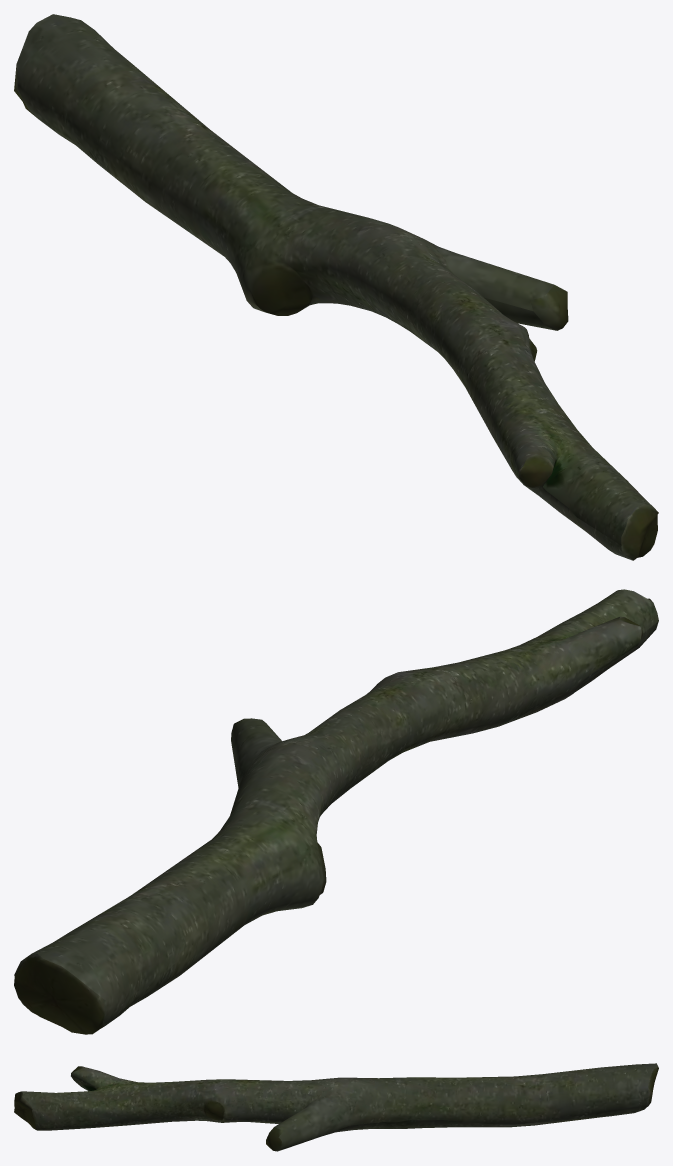
3 renders of one model, top to bottom at view 1: azimuth 30°, elevation 25°; view 2: azimuth 150°, elevation 25°; view 3: azimuth 270°, elevation 25°, orthographic. The views are drawn at different scales.
Visible parts, largest first — view 1: SM_Branches_03_LOD0; view 2: SM_Branches_03_LOD0; view 3: SM_Branches_03_LOD0.
Boxes of the visible parts, x1,y1,x2,y2 form: SM_Branches_03_LOD0: (14, 14, 658, 560); SM_Branches_03_LOD0: (14, 589, 658, 1034); SM_Branches_03_LOD0: (14, 1063, 658, 1151).
Size of the model in its own units: 0.3491 by 0.1671 by 1.56.
1 material, 1 textured.
